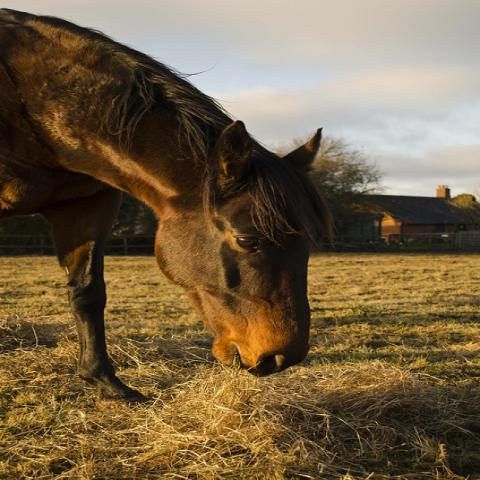car: (390, 236, 452, 253)
